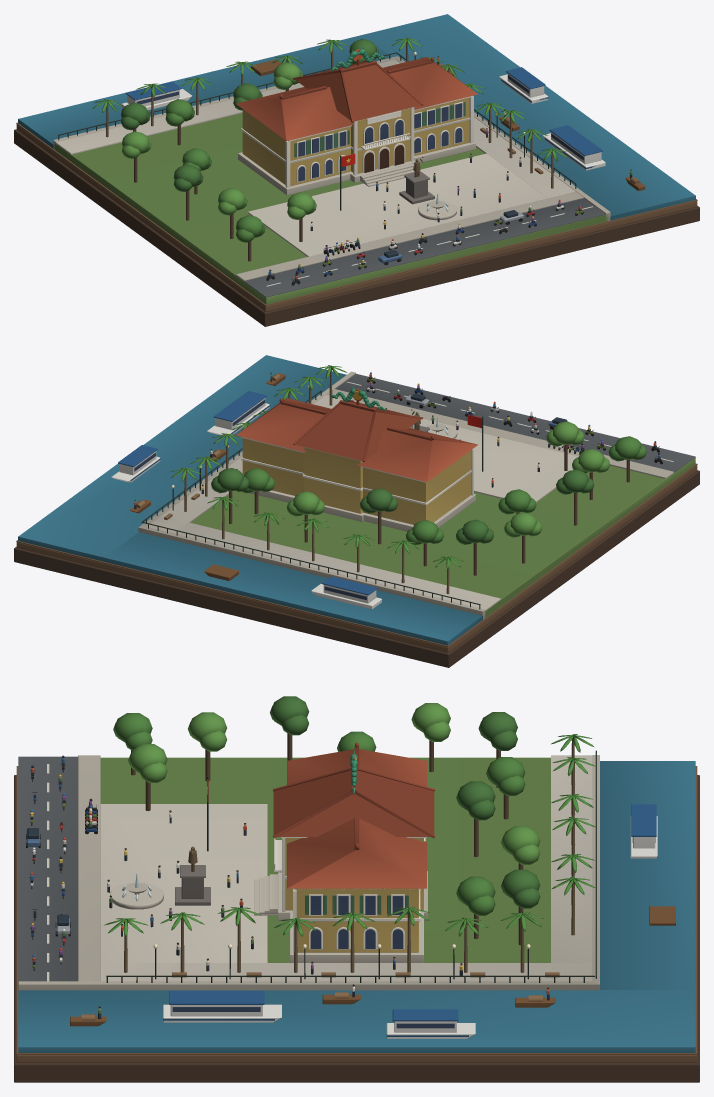
File: ben-nha-rong.glb
The picture shows the model from 3 angles, top to bottom: view 1: azimuth 30°, elevation 25°; view 2: azimuth 150°, elevation 25°; view 3: azimuth 270°, elevation 25°; orthographic projection. The views are drawn at different scales.
Visible parts, largest first — view 1: BR_attic_plaque; view 2: BR_attic_plaque; view 3: BR_attic_plaque.
Boxes of the visible parts, box(x1,y1,x2,y2) form: BR_attic_plaque: box(14, 14, 699, 326); BR_attic_plaque: box(14, 355, 699, 667); BR_attic_plaque: box(14, 696, 699, 1082).
Bounding box in the file's own units: 92 × 27.29 × 92.
Materials: 1 (1 with a texture image).
